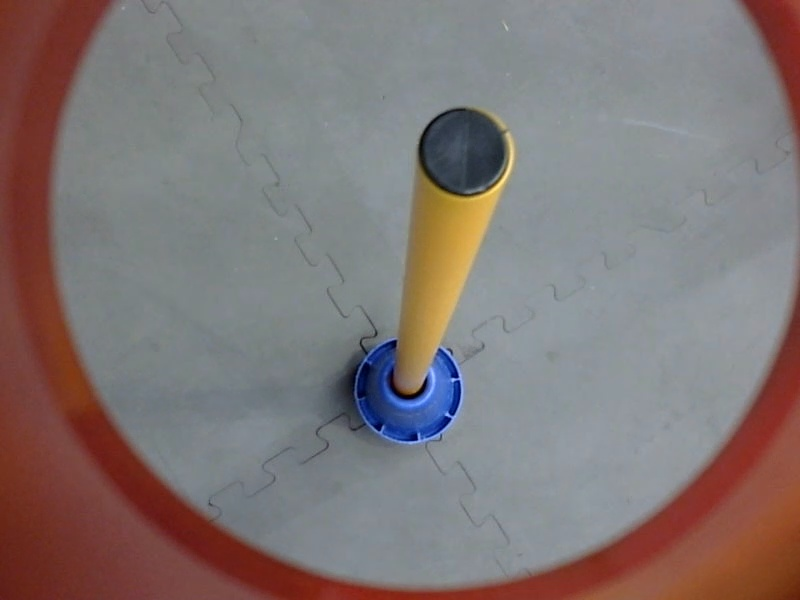tip: (412, 97, 521, 206)
